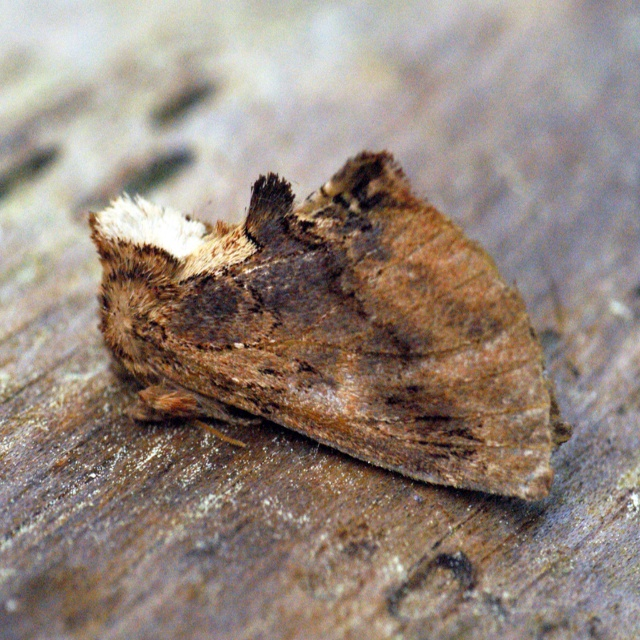Moths and butterflies: (77, 144, 581, 511)
